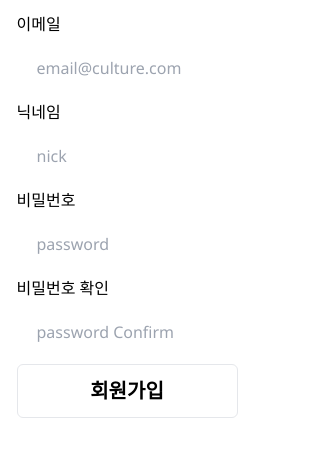
Test: 비밀번호 확인란의 내용이 비밀번호 란과 일치하지 않으면 실시간으로 회원가입 버튼 상단에 valid메시지가 나타난다.
The width and height of the screenshot is (320, 471).
In the password field with placeholder "password": (127, 244) x1=16 y1=220 x2=238 y2=268, type "1234"
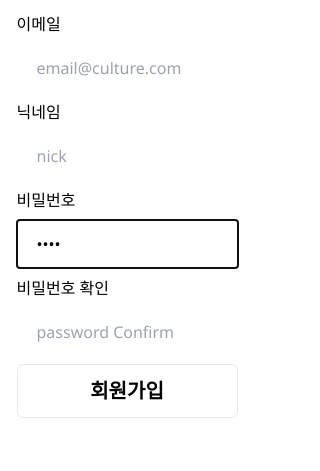
In the password field with placeholder "password Confirm": (127, 332) x1=16 y1=308 x2=238 y2=356, type "12345"
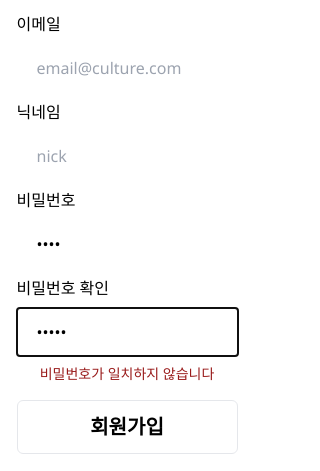
Expected: the text "비밀번호가 일치하지 않습니다" is shown, x1=40 y1=364 x2=214 y2=383
